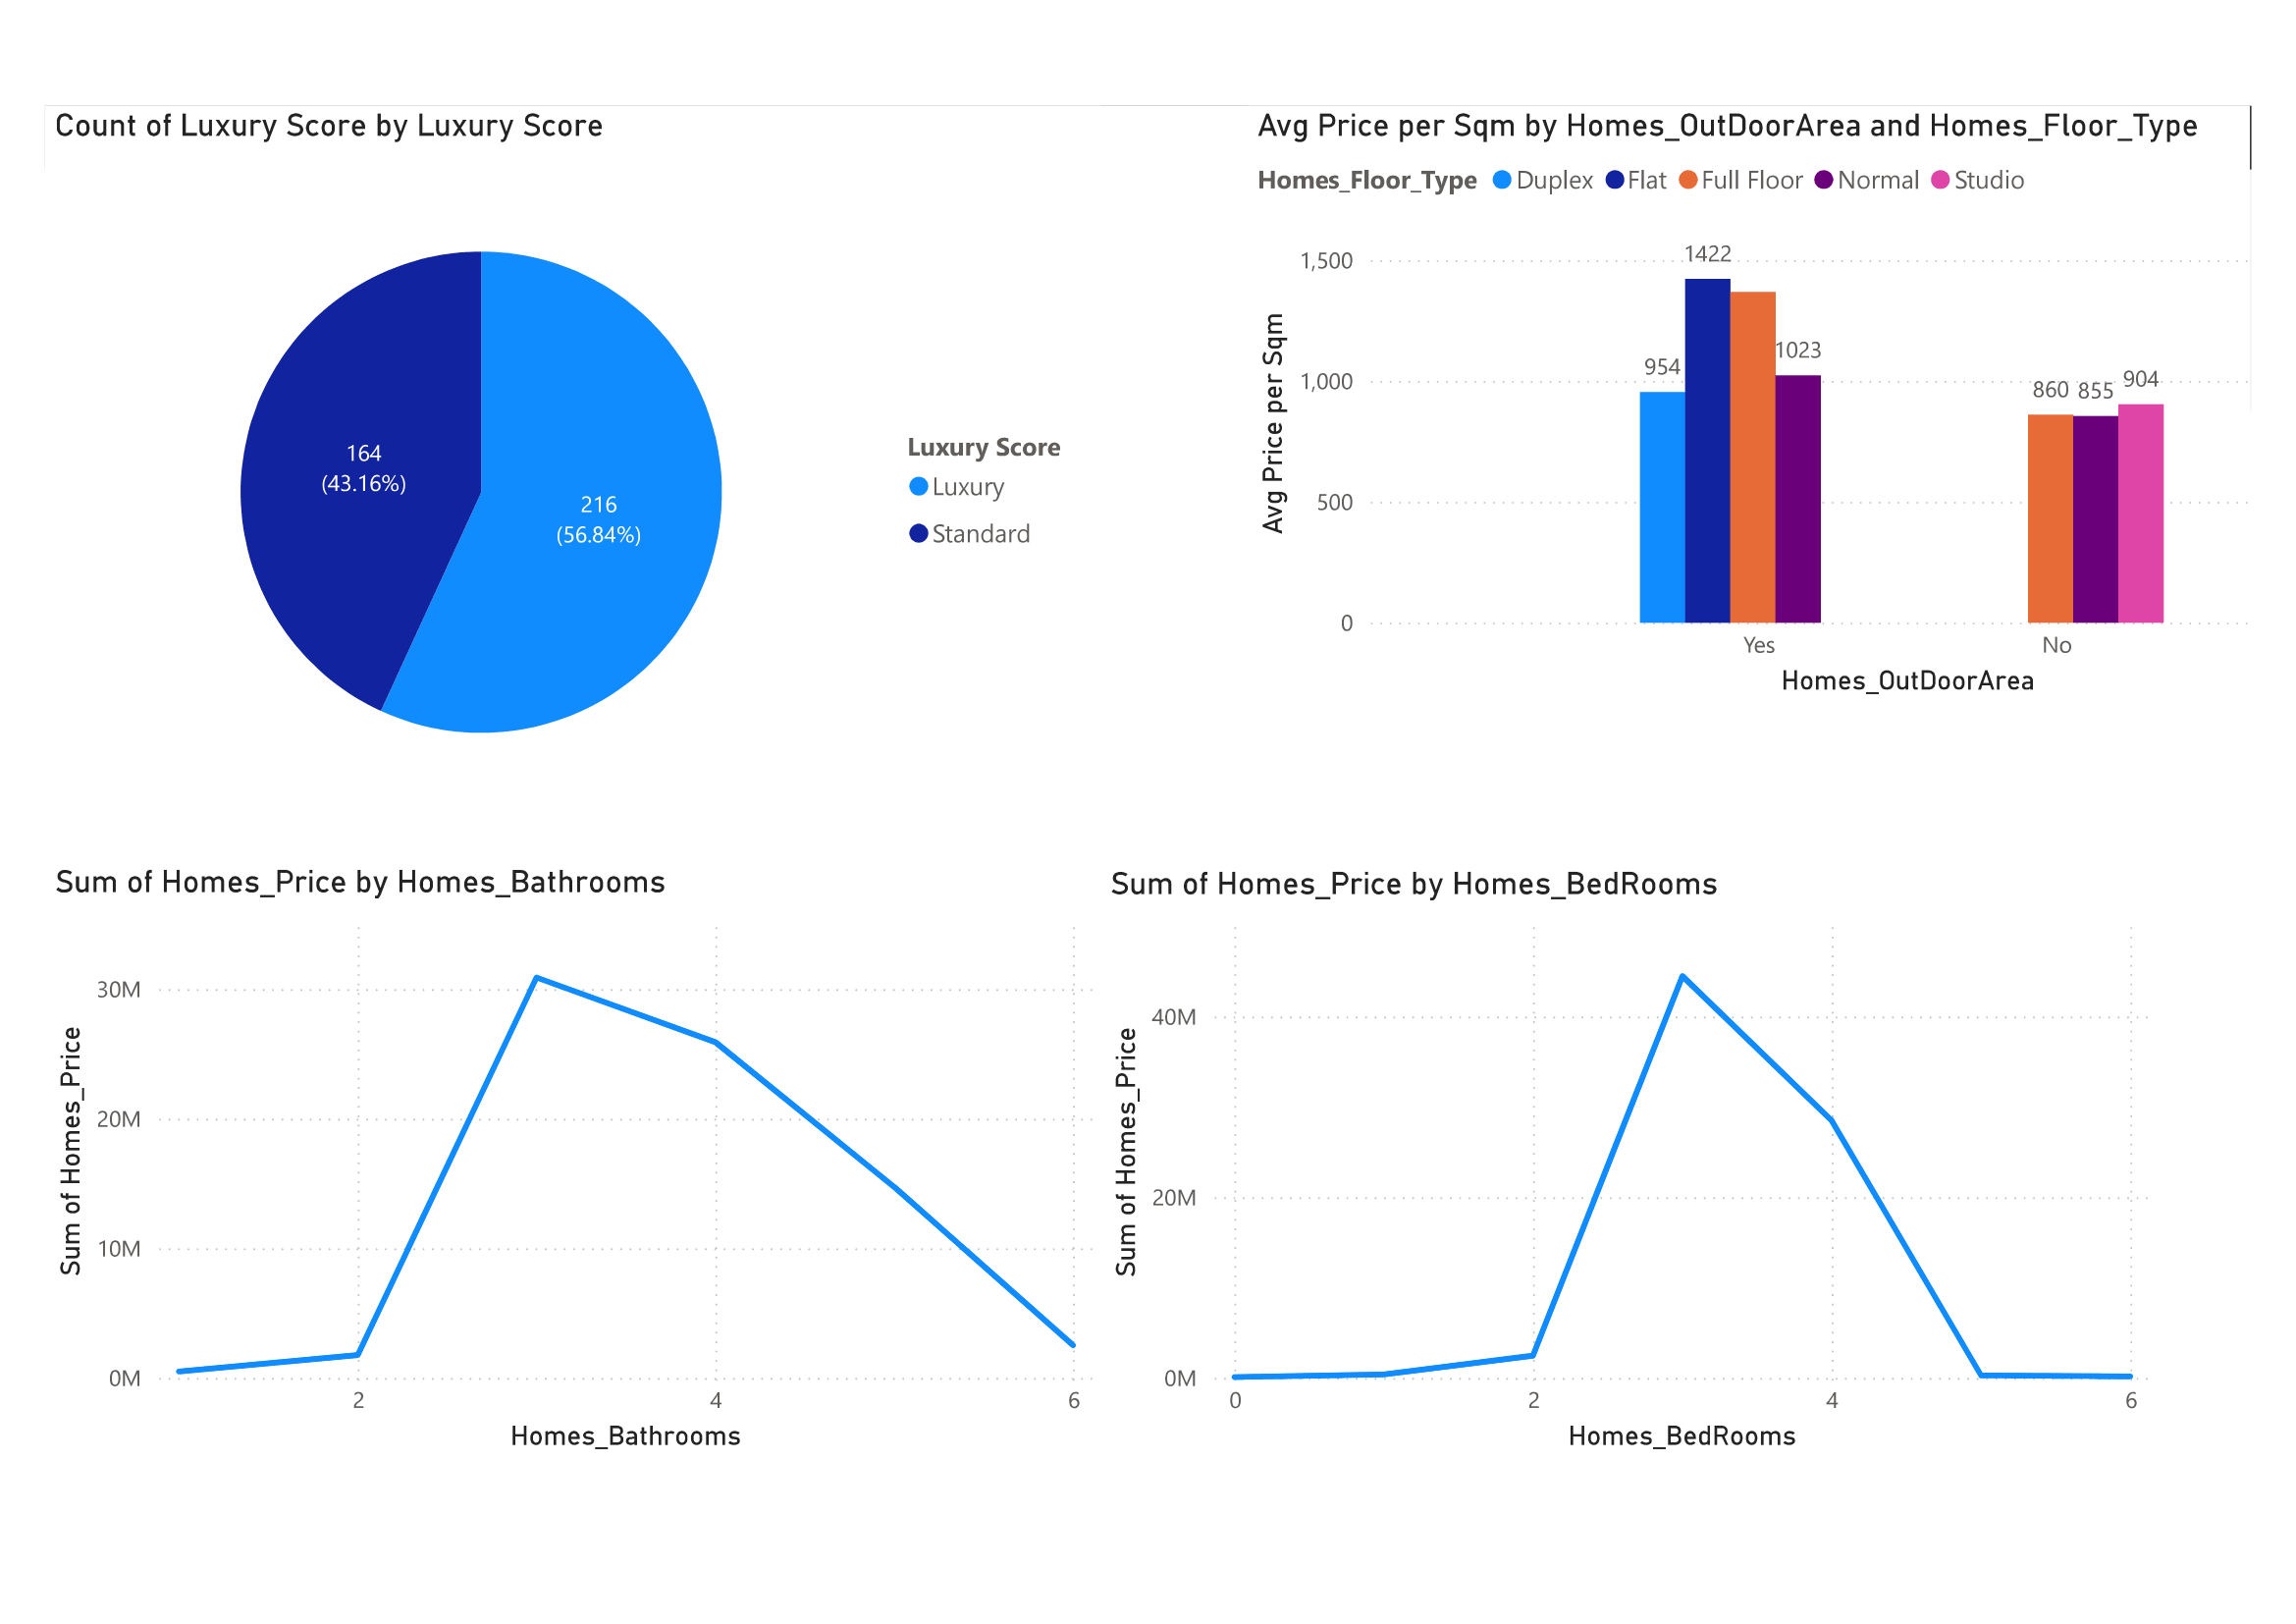

Layout of this report page (visuals, bound fields, positions):
{"tool":"powerbi","page":{"name":"General Inisghts","canvas":[1280,720],"ordinal":2},"visuals":[{"type":"pieChart","fields":{"Category":["Sheet1.Luxury Score"],"Y":["CountNonNull(Sheet1.Luxury Score)"]},"box":[0,0,561.2,392.5],"z":0},{"type":"clusteredColumnChart","fields":{"Y":["Sheet1.Avg Price per Sqm"],"Series":["Sheet1.Homes_Floor_Type"],"Category":["Sheet1.Homes_OutDoorArea"]},"box":[639.5,0,640.8,318.4],"z":1000},{"type":"lineChart","fields":{"Y":["Sum(Sheet1.Homes_Price)"],"Category":["Sheet1.Homes_Bathrooms"]},"box":[0,402,561,318],"z":2000},{"type":"lineChart","fields":{"Y":["Sum(Sheet1.Homes_Price)"],"Category":["Sheet1.Homes_BedRooms"]},"box":[561.2,402.5,561.2,317.5],"z":2001}]}

Visuals, with their boxes on the page's 1280x720 design canvas (x1, y1, x2, y2). These are canvas units, not pixel positions in the 2296x1624 screenshot, which may show the page scaled, cropped or inside an application window:
pieChart - Sheet1.Luxury Score x CountNonNull(Sheet1.Luxury Score): [0,0,561,392]
clusteredColumnChart - Sheet1.Avg Price per Sqm x Sheet1.Homes_Floor_Type: [640,0,1280,318]
lineChart - Sum(Sheet1.Homes_Price) x Sheet1.Homes_Bathrooms: [0,402,561,720]
lineChart - Sum(Sheet1.Homes_Price) x Sheet1.Homes_BedRooms: [561,402,1122,720]
